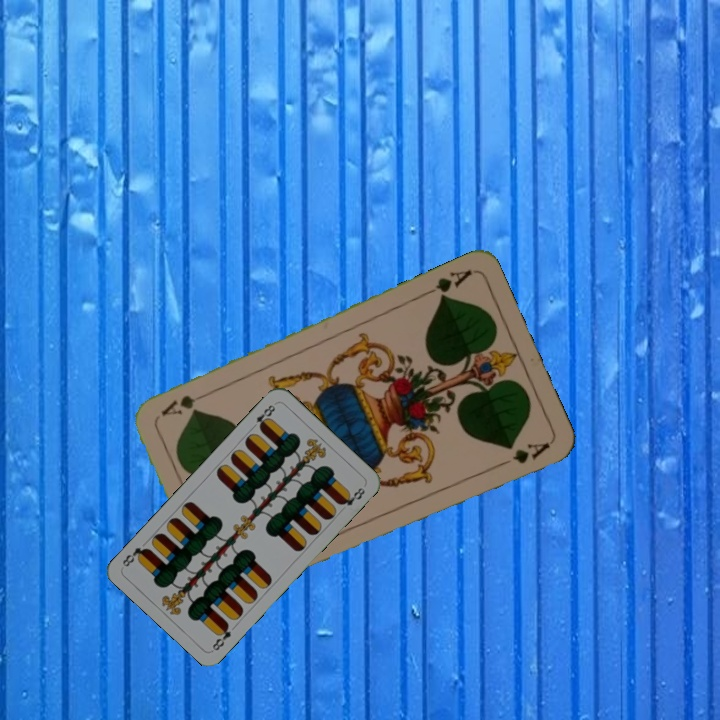E8: (247, 401, 278, 432), (208, 619, 234, 653)
GA: (419, 265, 475, 302)
